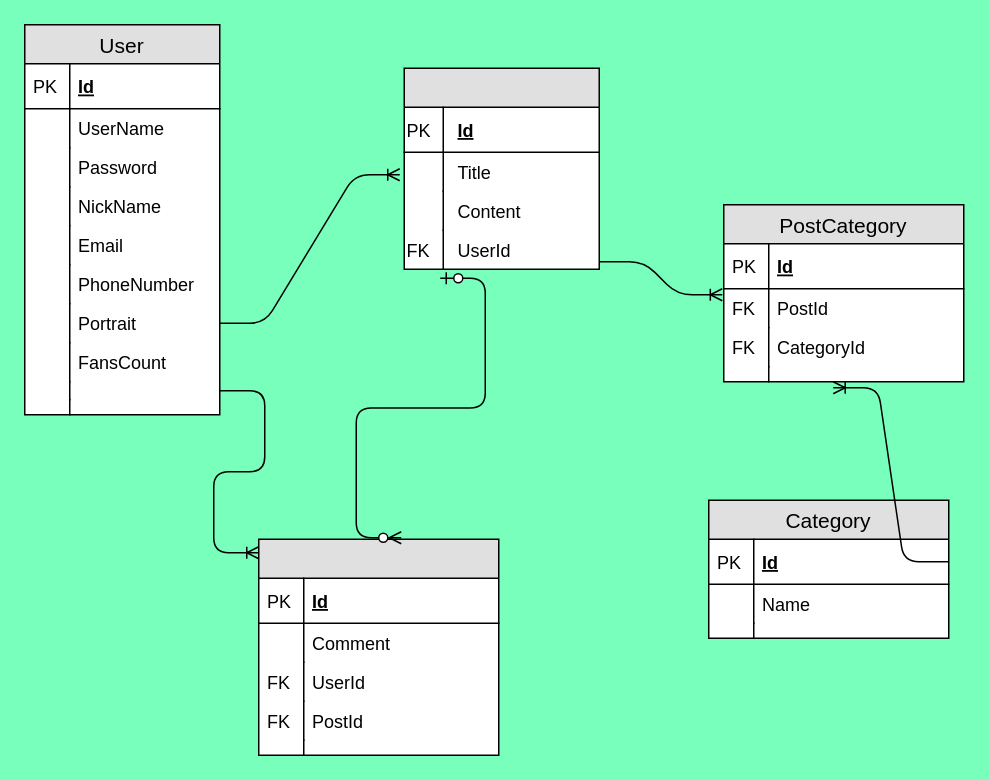
Image size: 989x780. Some labels were removed from this diagram. Here are the shapes that lost their labels. From the top down, the box of each, then its label:
(403, 67, 599, 269): Post
(257, 538, 499, 755): Comments
